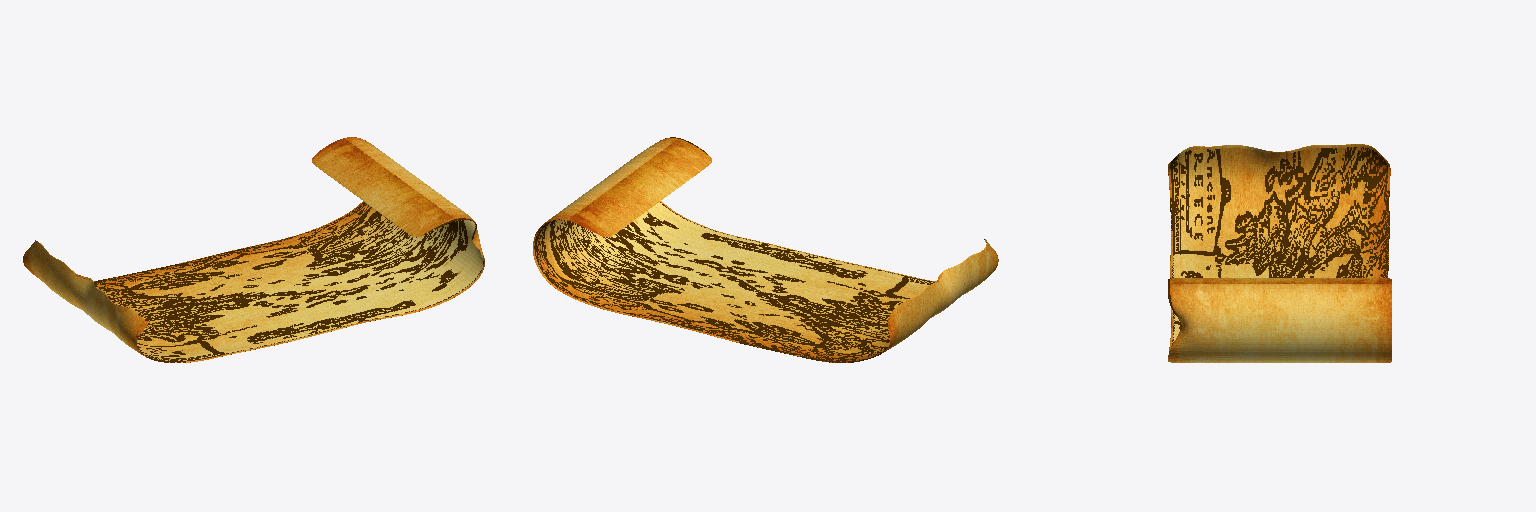
3 renders of one model, left to right at view 1: azimuth 30°, elevation 25°; view 2: azimuth 150°, elevation 25°; view 3: azimuth 270°, elevation 25°, orthographic.
Parts seen in each view (by area): view 1: Plane.001; view 2: Plane.001; view 3: Plane.001.
Part boxes in pixels (x1,y1,x2,y2): Plane.001: (23,137,484,362); Plane.001: (533,137,998,362); Plane.001: (1168,144,1391,362).
Size of the model in its own units: 4.61 by 1.03 by 2.5.
2 materials, 2 textured.